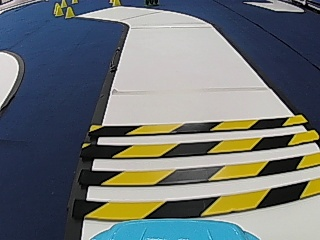bump: (78, 110, 316, 216)
